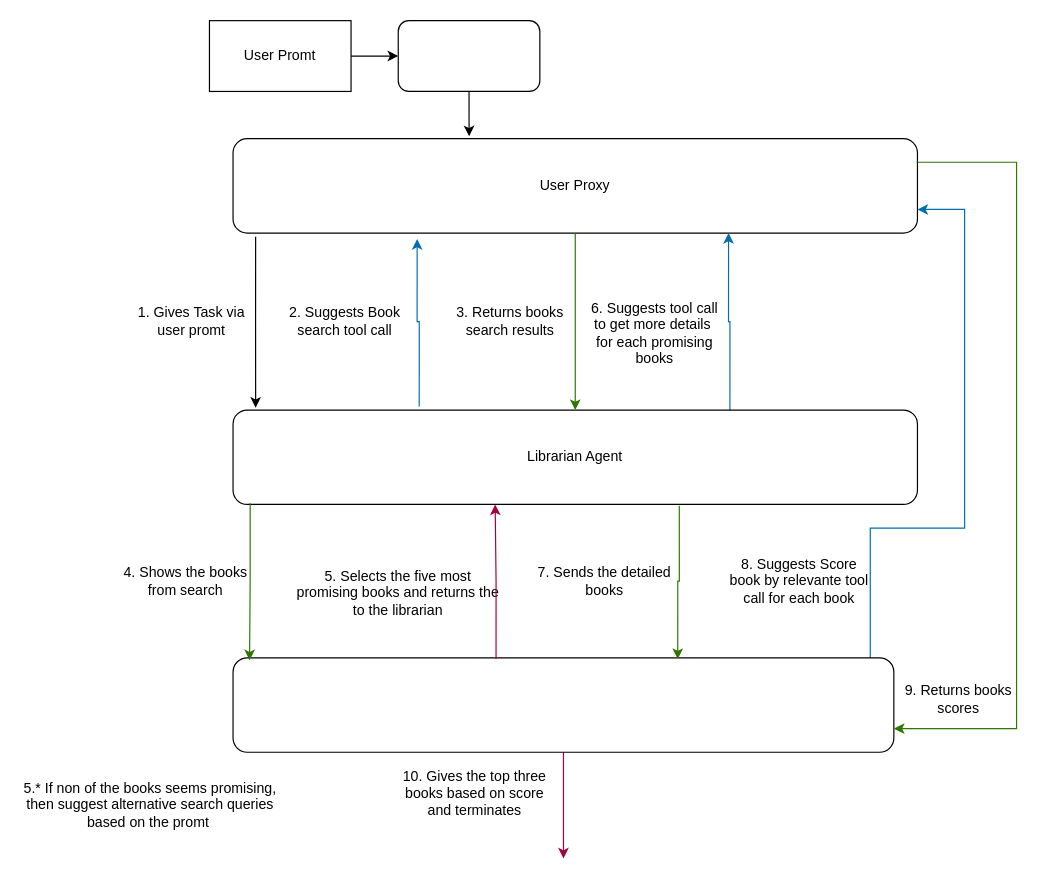
This 1047x889 diagram has some shape labels left out. The box of each missing label's shape, as (x1, y1, x2, y2) in pixels:
Groupchat manager: (397, 19, 540, 91)
Internal Critic: (232, 657, 894, 752)
